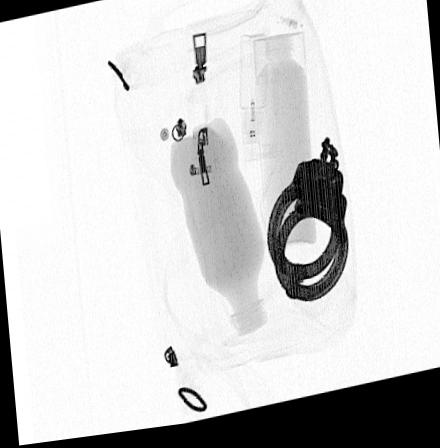HandCuffs: (264, 144, 349, 312)
